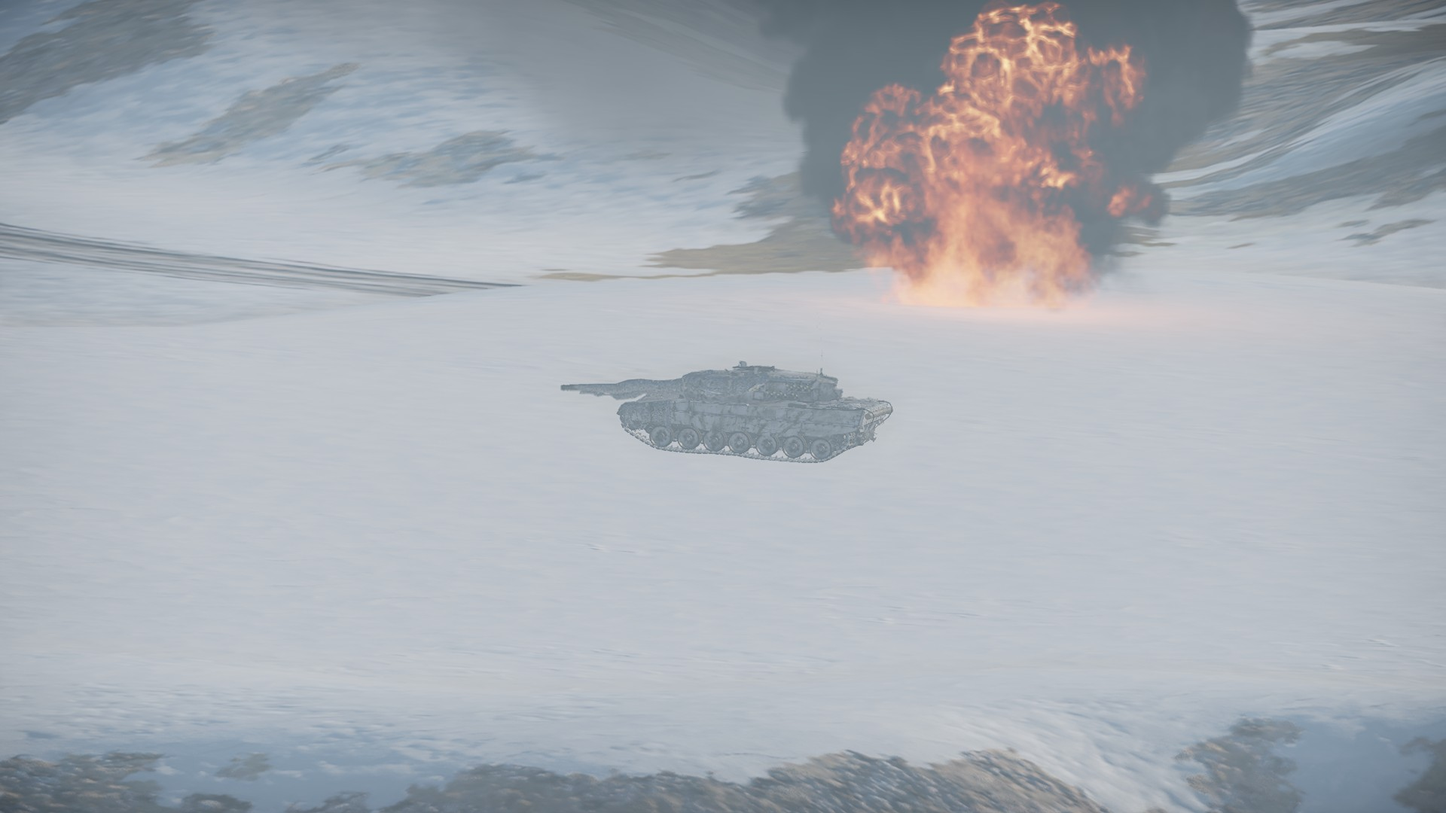leopard2: (560, 361, 893, 464)
